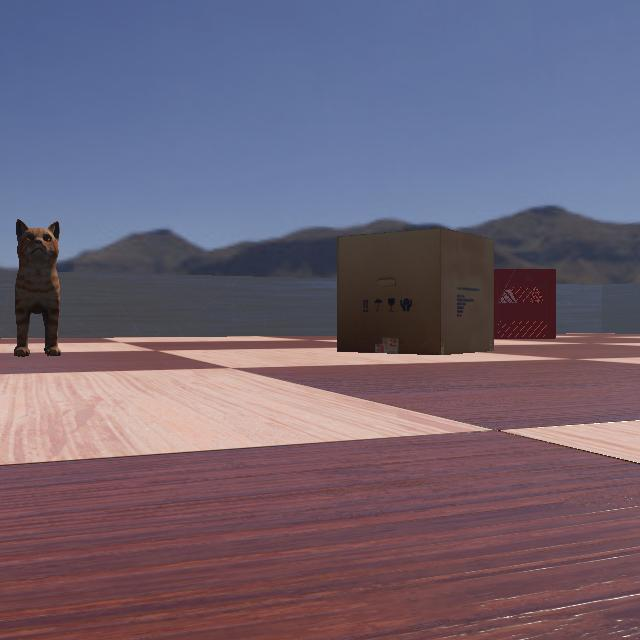cardboard-box: (334, 228, 518, 354), (334, 228, 518, 354)
cat: (0, 214, 114, 358), (0, 214, 114, 358), (0, 214, 114, 358)
plastic-crate: (462, 268, 558, 338)
